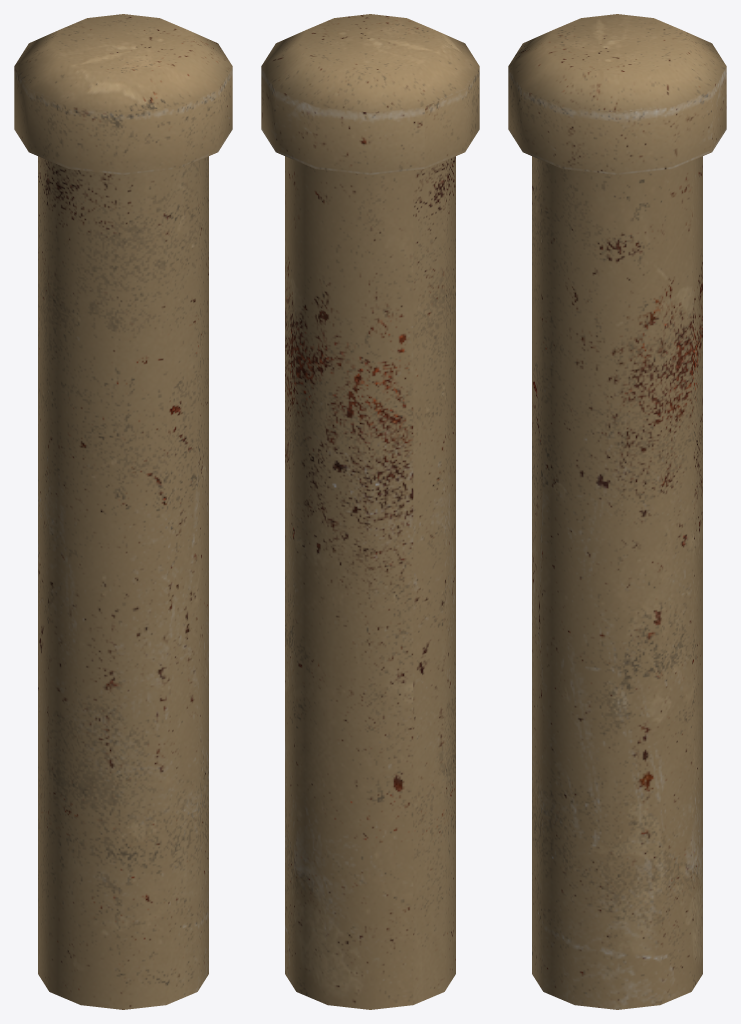
Rendered from prp_metalPillar.fbx.
3 views of the same model, side by side, from view 1: azimuth 30°, elevation 25°; view 2: azimuth 150°, elevation 25°; view 3: azimuth 270°, elevation 25° (orthographic).
Parts seen in each view (by area): view 1: prp_metalPillar; view 2: prp_metalPillar; view 3: prp_metalPillar.
Part boxes in pixels (x1=…): prp_metalPillar: x1=14, y1=14, x2=232, y2=1009; prp_metalPillar: x1=261, y1=14, x2=479, y2=1009; prp_metalPillar: x1=508, y1=14, x2=726, y2=1009.
Bounding box in the file's own units: 24.1 × 113 × 24.1.
